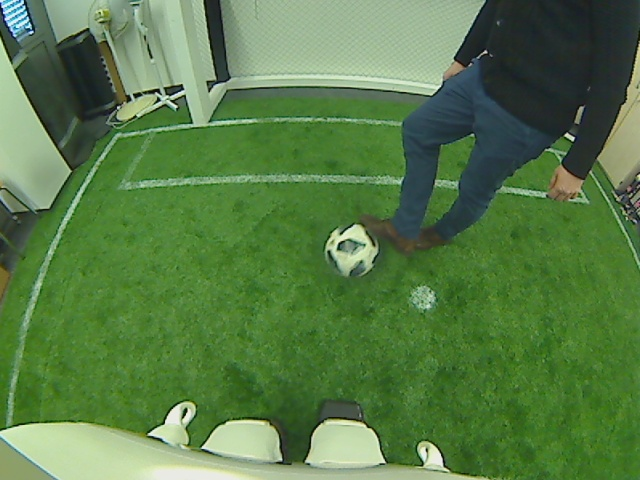ball: (324, 220, 379, 278)
